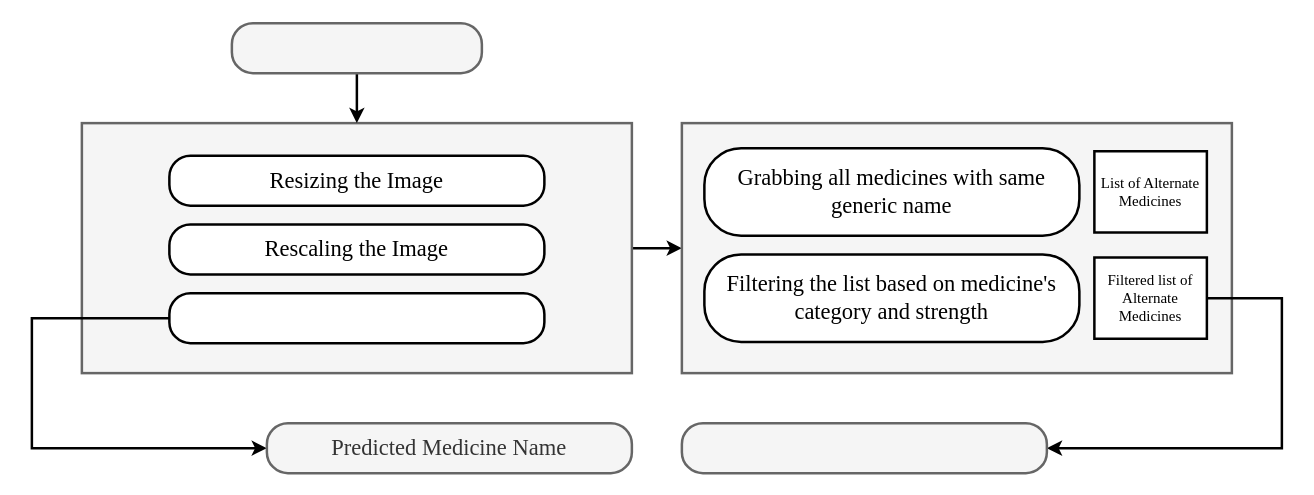
Some shapes in this 1314 by 495 pixel diagram are drawn without their labels. The shapes that lost their labels are listed below. From the top down, each one's box as (x1, y1, x2, y2) in pixels, then its label:
(230, 21, 482, 74): Input Image
(168, 291, 545, 344): Predicting the Medicine Name
(680, 421, 1048, 474): Alternative Brands
